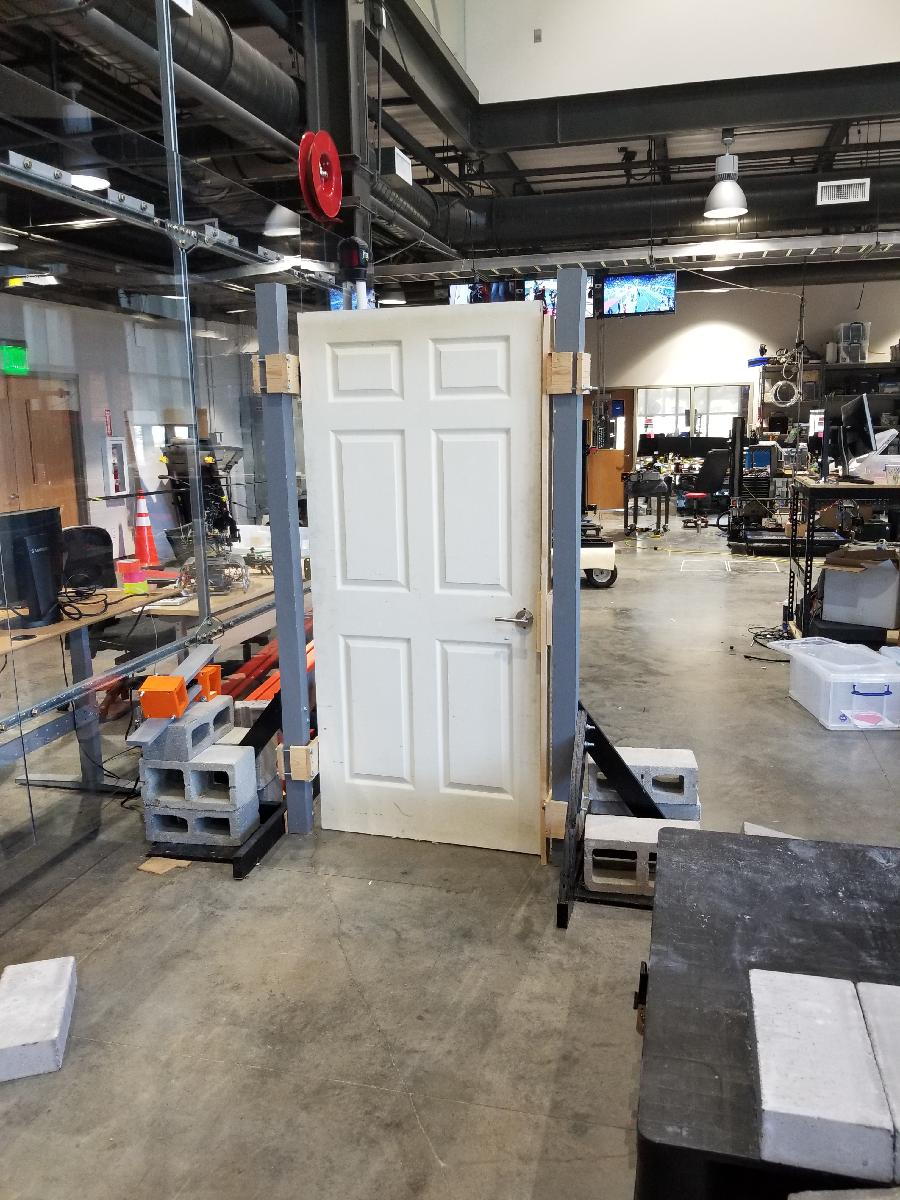door: (293, 296, 553, 860)
doorHandle: (495, 603, 539, 635)
